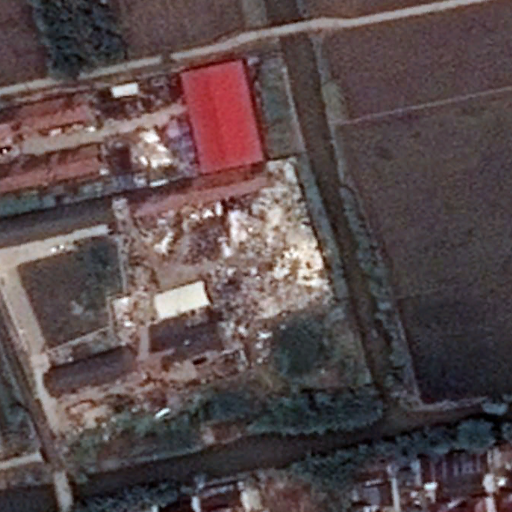msw: (152, 171, 330, 325)
